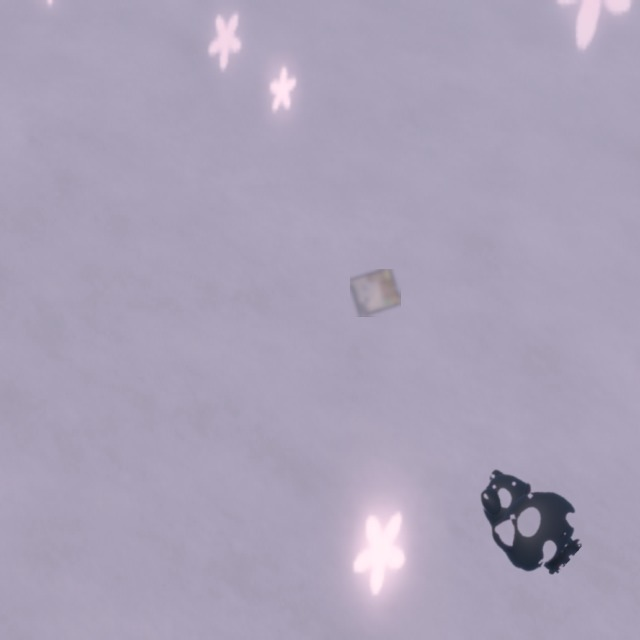urso_branco: (350, 269, 401, 317)
urso_preto: (447, 439, 604, 594)
